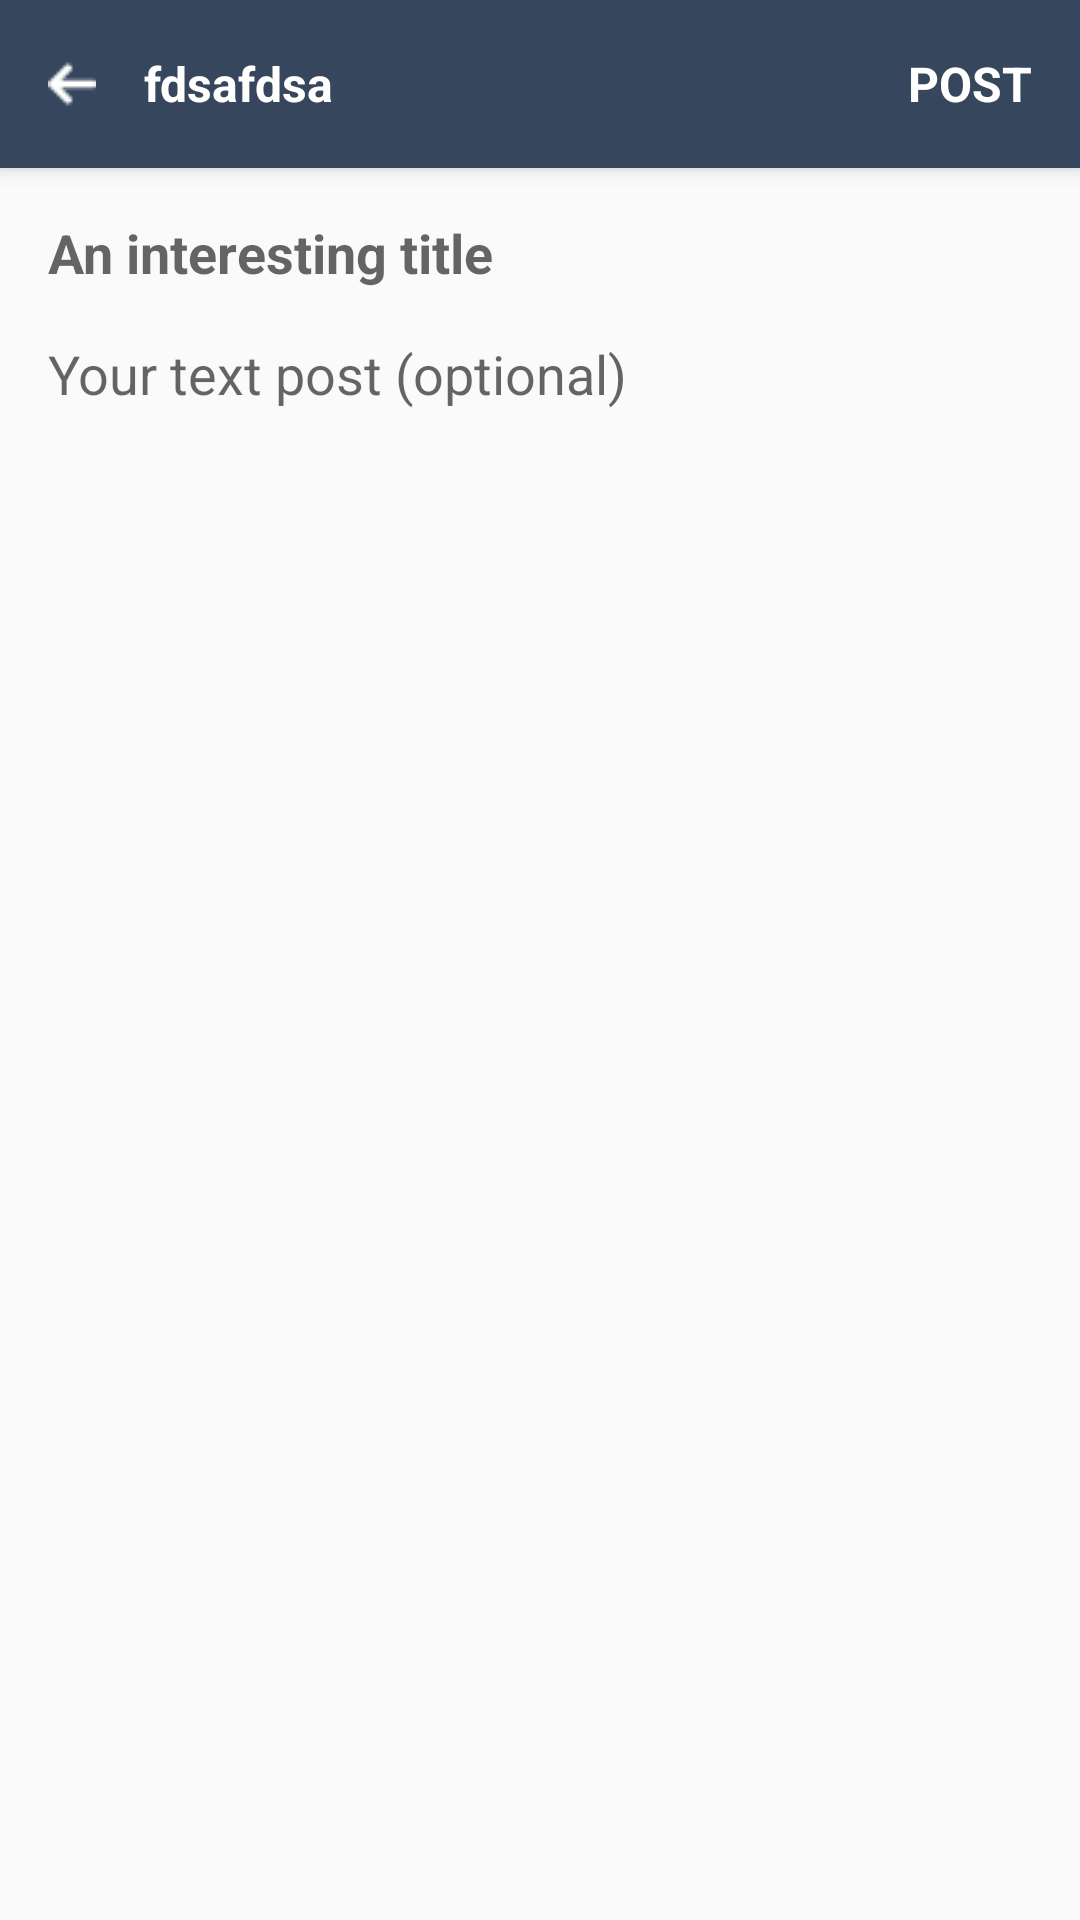

Screen size 1080 × 1920. Icon name, then its box in pixels as (x1, y1, x2, y2):
left arrow: (48, 62, 96, 106)
